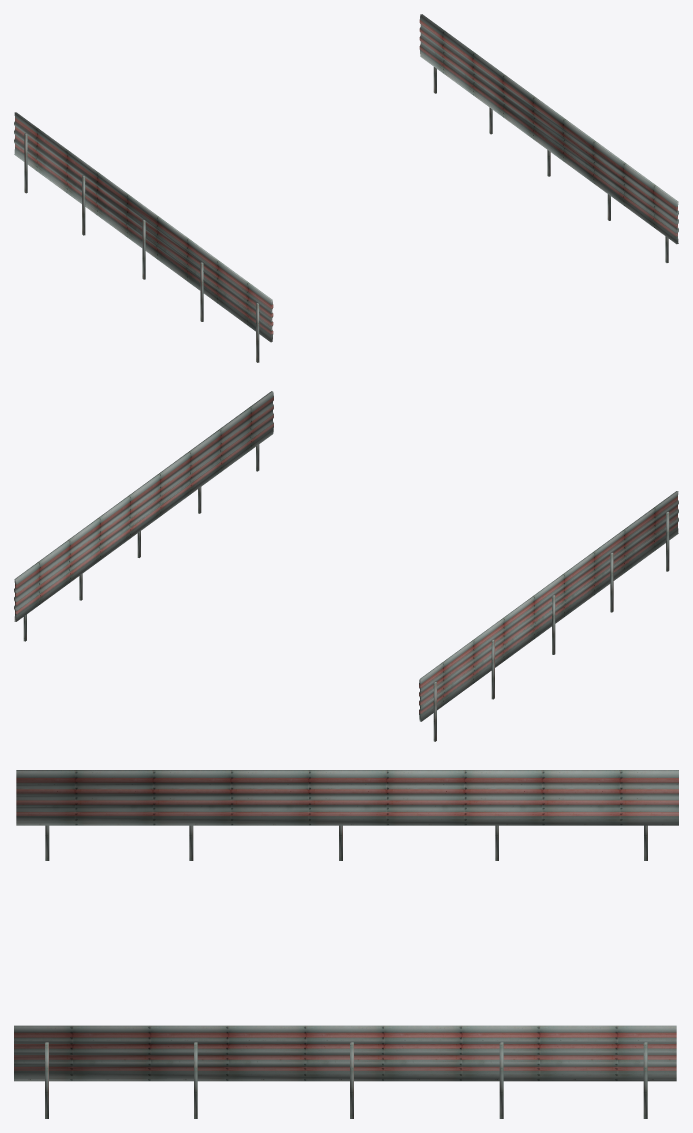
File: barrier_short.fbx
3 views of the same model, one above another, from view 1: azimuth 30°, elevation 25°; view 2: azimuth 150°, elevation 25°; view 3: azimuth 270°, elevation 25° (orthographic). The views are drawn at different scales.
Parts seen in each view (by area): view 1: barrier_short; view 2: barrier_short; view 3: barrier_short.
Boxes of the visible parts, x1=… form: barrier_short: x1=14, y1=14, x2=678, y2=362; barrier_short: x1=14, y1=391, x2=678, y2=741; barrier_short: x1=14, y1=770, x2=678, y2=1118.
Size of the model in its own units: 185 by 30.31 by 201.
